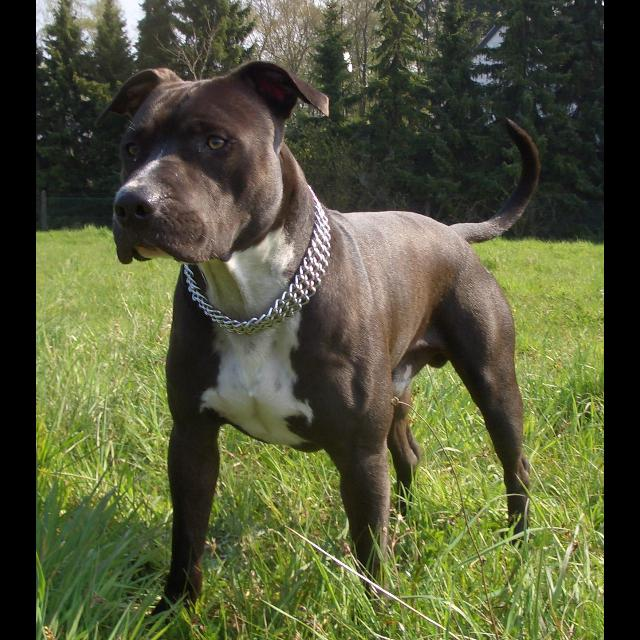am_pit_bull_terrier: (95, 60, 543, 624)
